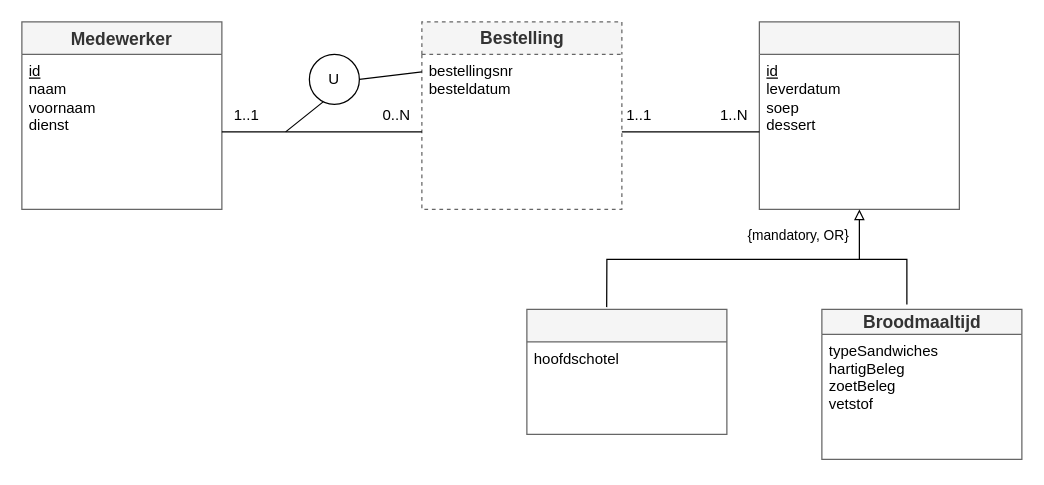
This 1044x485 diagram has some shape labels left out. Each missing label, with the box of its shape:
Maaltijd: (758, 21, 959, 209)
WarmeMaaltijd: (526, 308, 727, 434)
